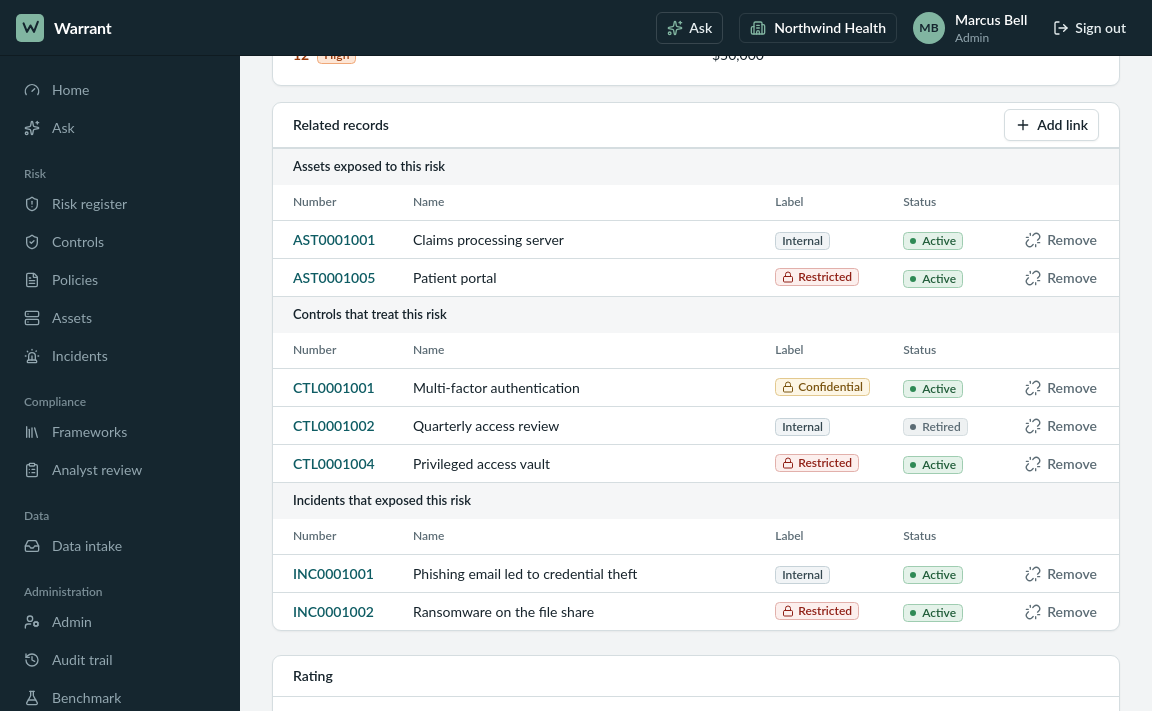
Test: the confirmation (criterion 2) › Cancel closes it and changes nothing
(page scrolled)
Check: the row "CTL0001001" is shown, box x1=273 y1=368 x2=1119 y2=406
Step 1. Click the button "Remove" in the row of "CTL0001001" → (1061, 388), box x1=1015 y1=374 x2=1107 y2=402
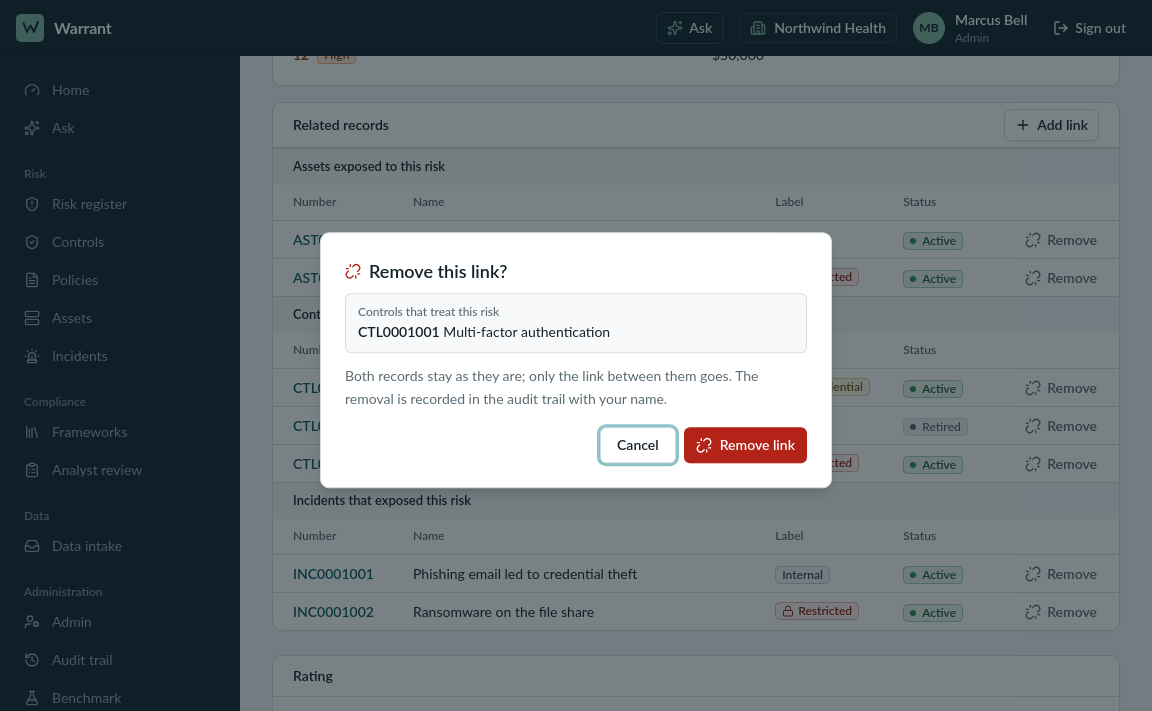
Step 2. Click the button "Cancel" → (638, 445), box x1=600 y1=427 x2=676 y2=463
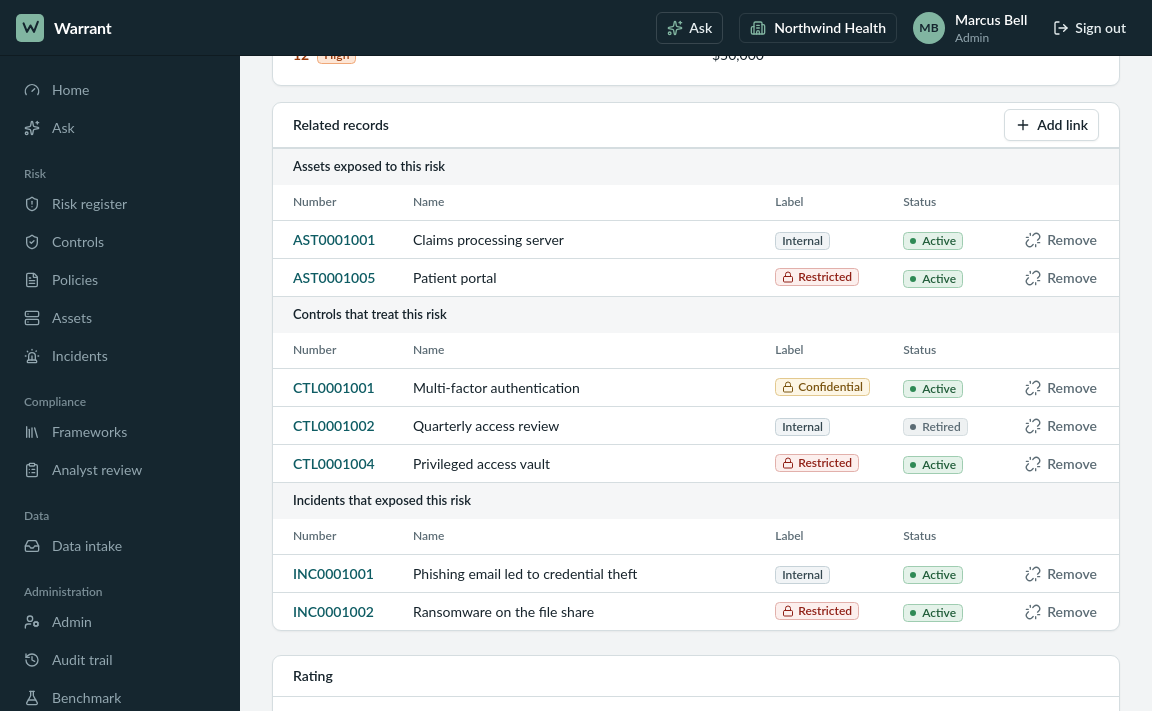
Check: the row "CTL0001001" is shown, box x1=273 y1=368 x2=1119 y2=406
Check: the dialog is gone
